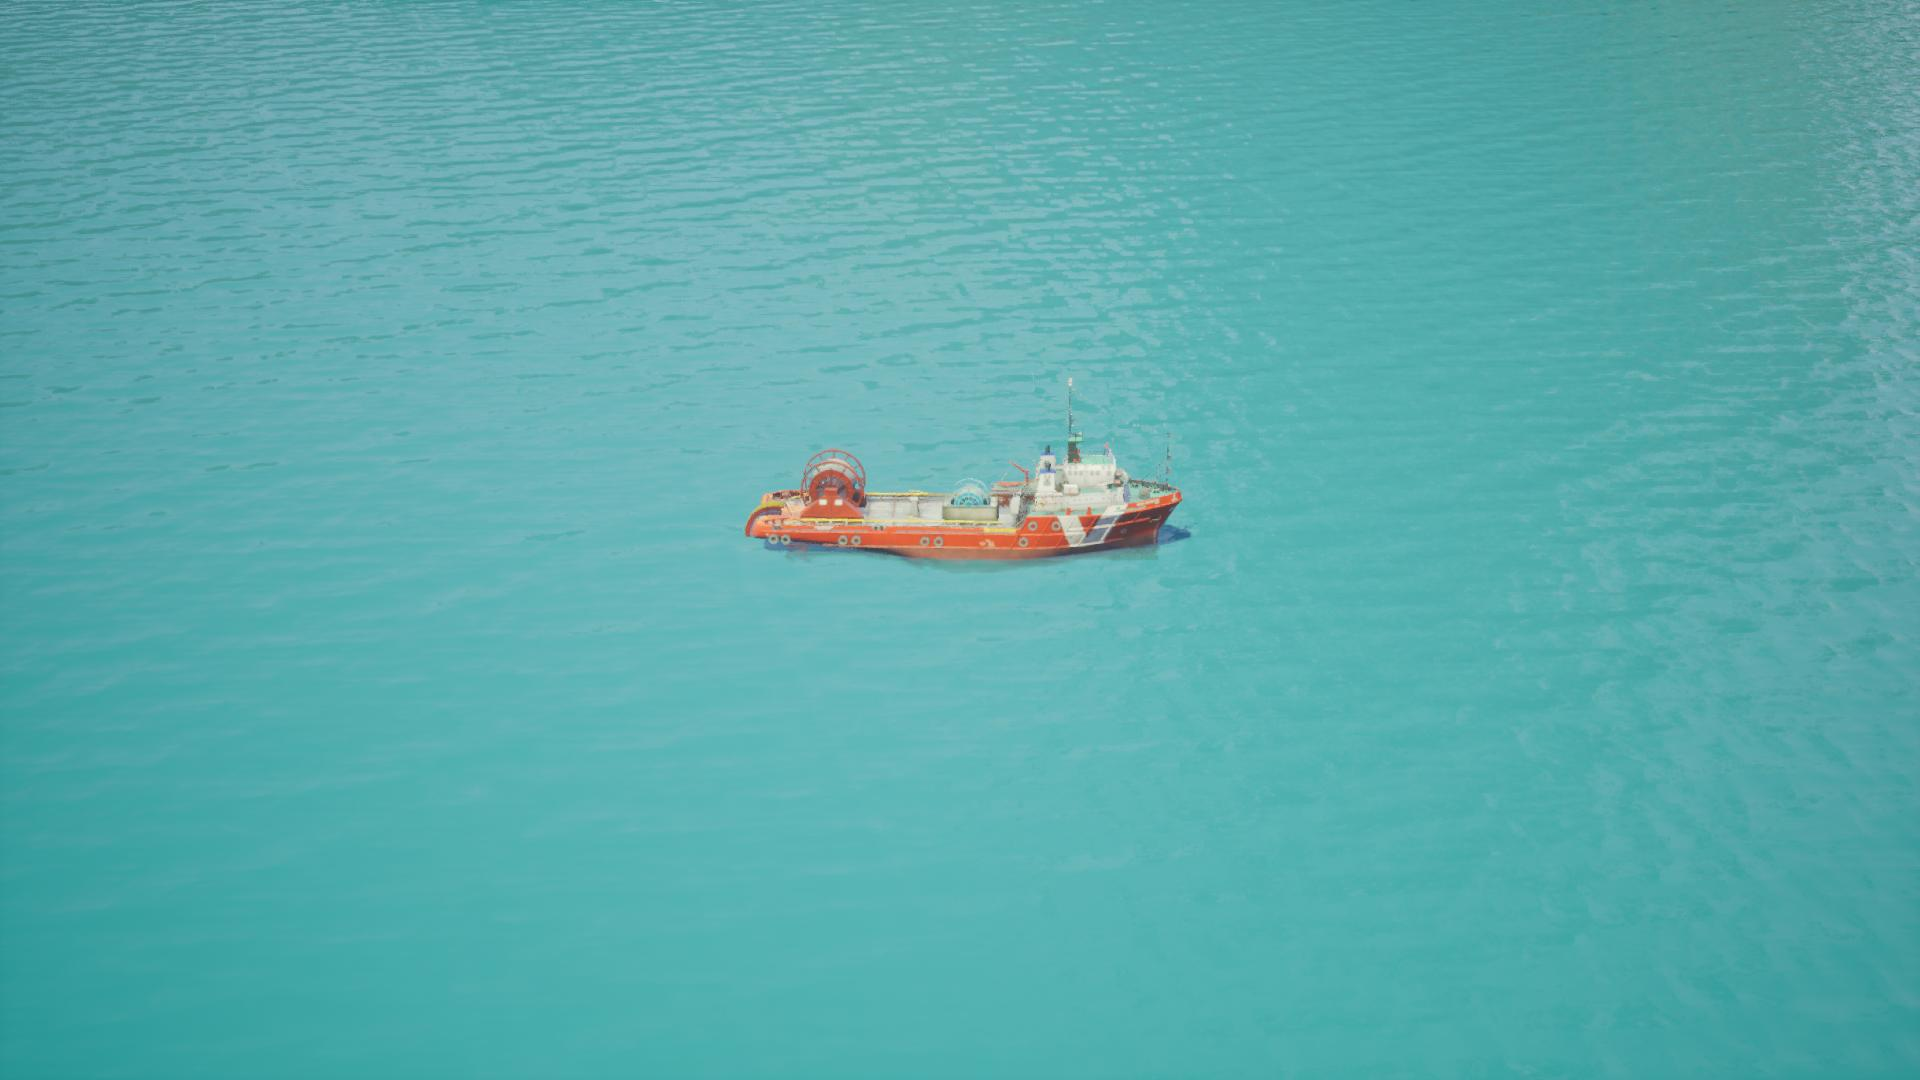Tug Boat: (742, 426, 1187, 566)
